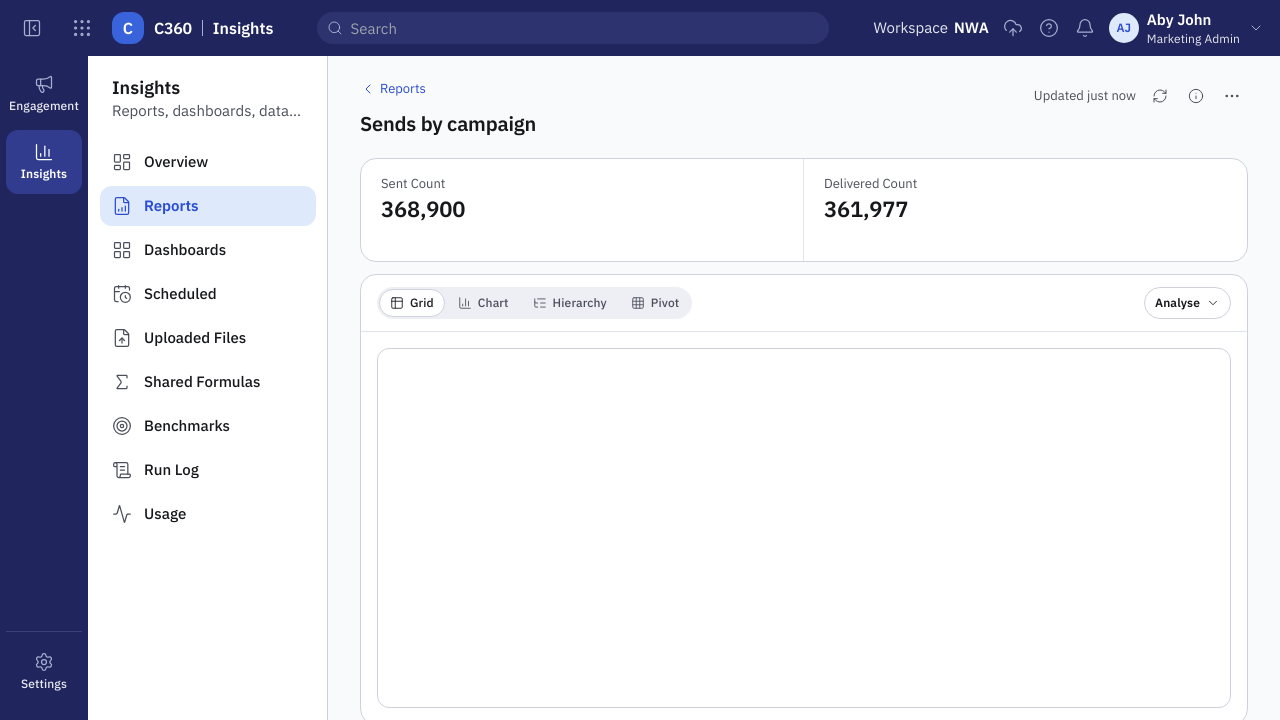
Scenario: Share: find a role, let it edit, and Save sends the list as a whole
Expected: the heading "Sends by campaign" is shown, [360,110,536,138]
Click the button named "More actions" at [1232, 96], box [1216,80,1248,112]
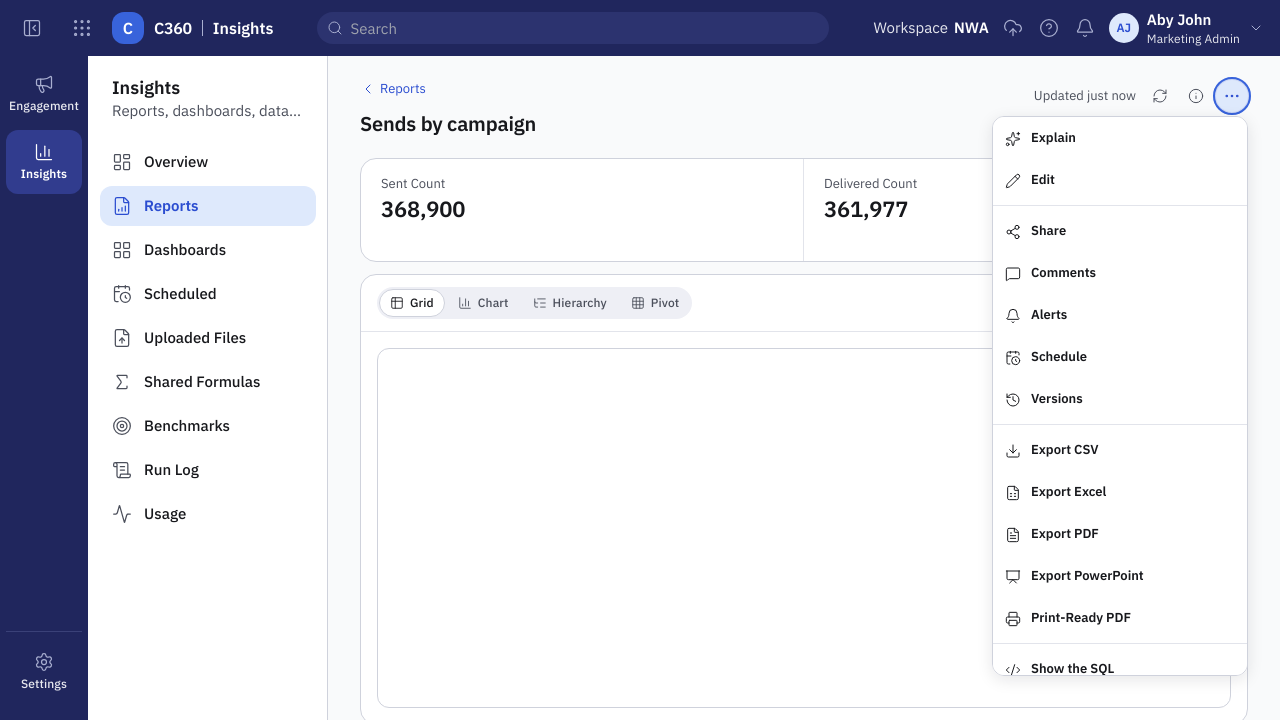
Click the menu item "Share" at [1120, 231], box [993,210,1247,252]
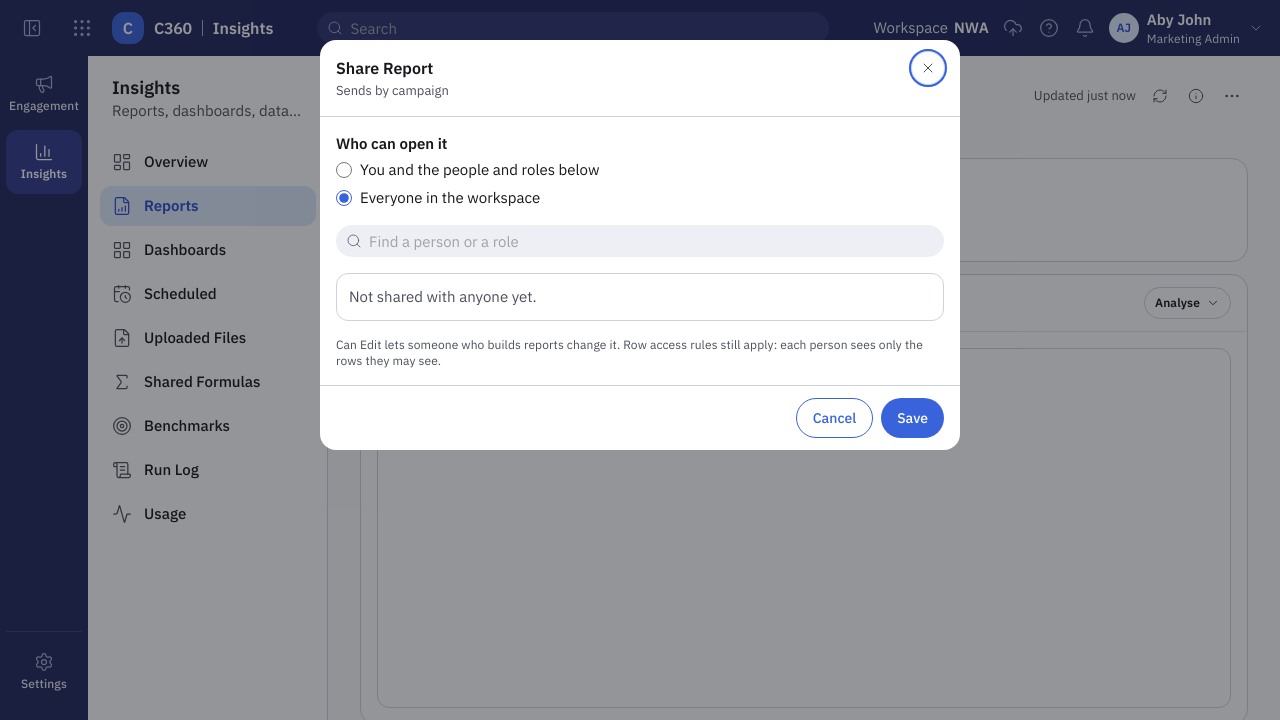
Result: the list item "Not shared with anyone yet." is shown at [349,287,537,306]
Type "Store" into the search field labelled "Find a person or a role" at [640, 241], box [336,225,944,257]
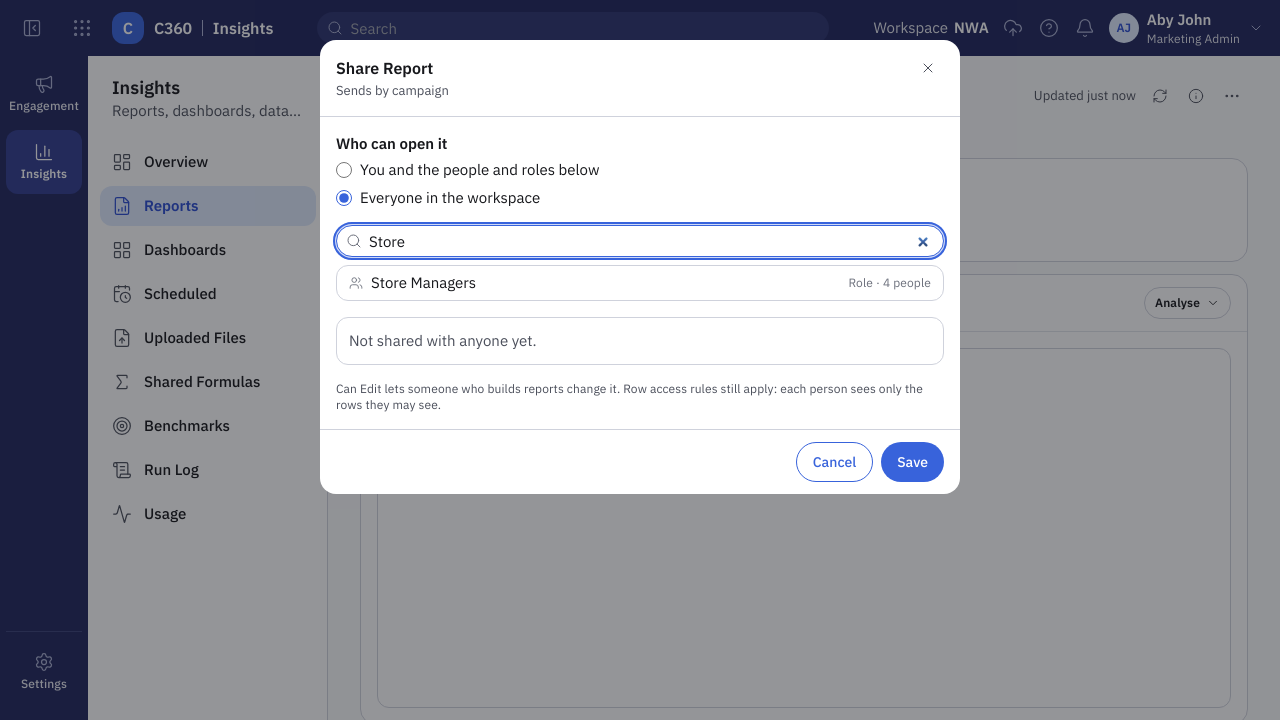
Click the button "Store Managers Role · 4 people" at [424, 282], box [337,266,943,300]
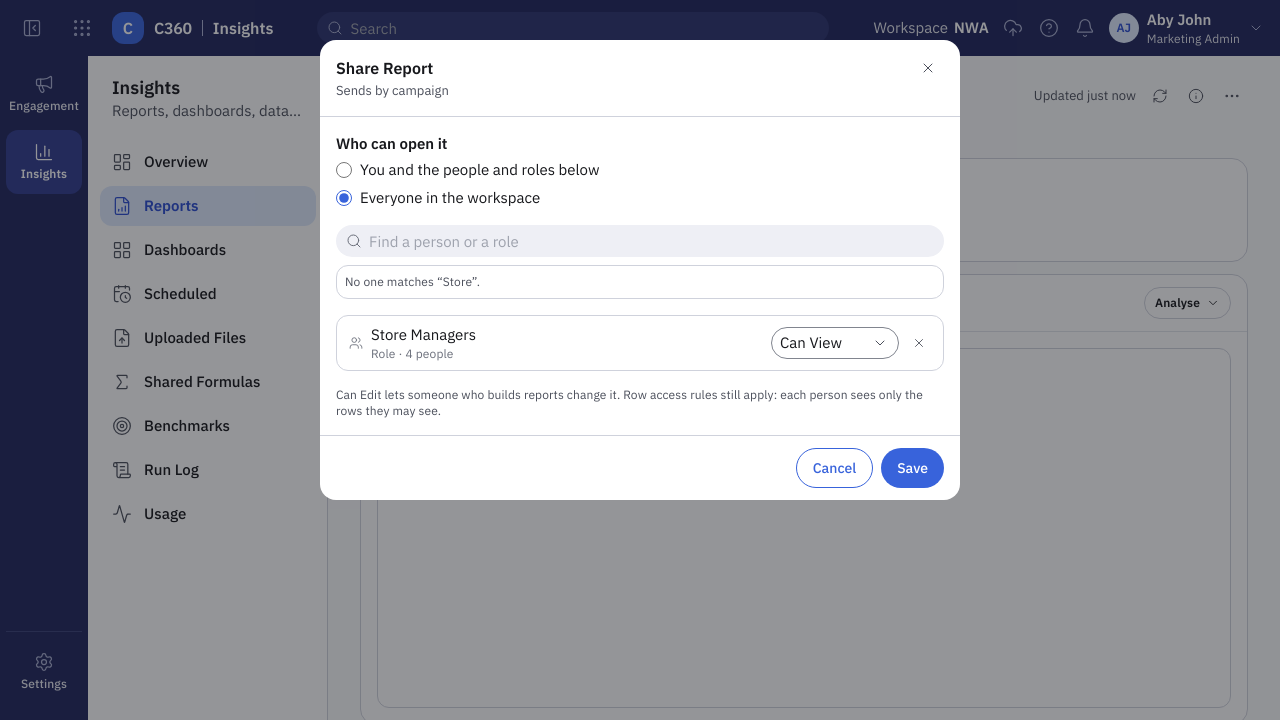
Select "Can Edit" in the dropdown named "Store Managers can" at [835, 343], box [771,327,899,359]
Click the radio button labelled "You and the people and roles below" at [344, 170], box [336,162,352,178]
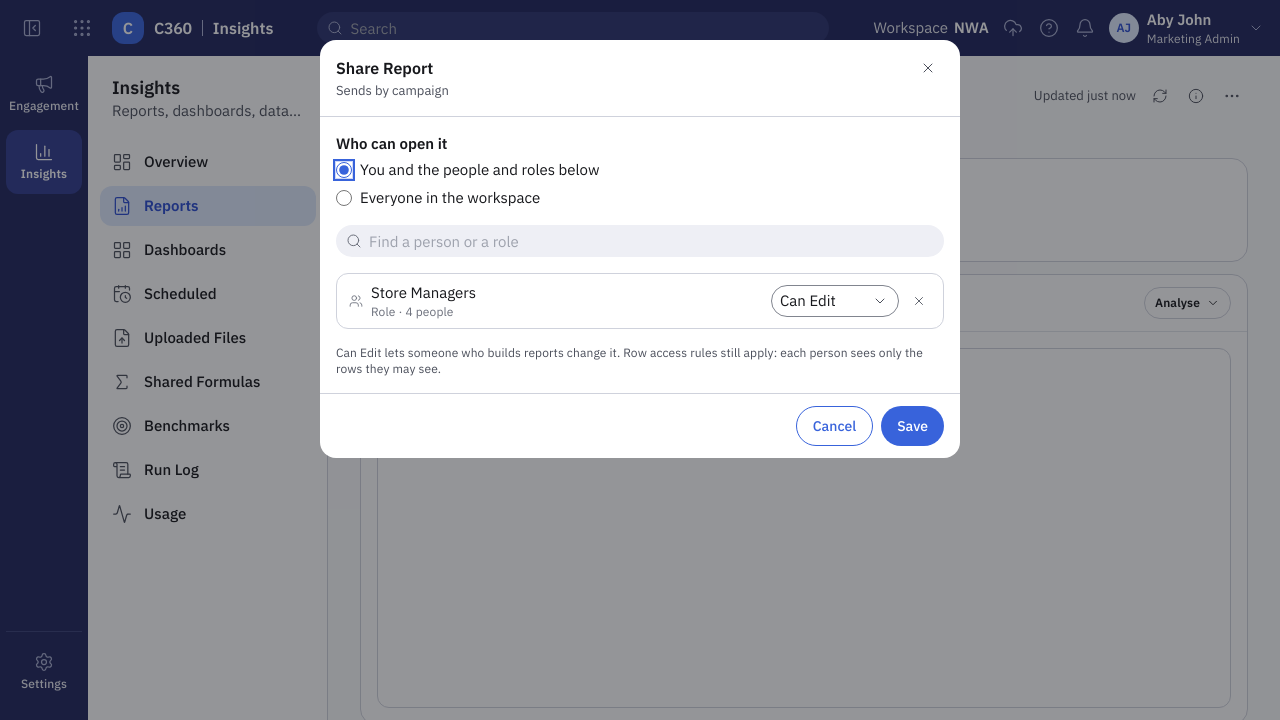
Click the button "Save" at [913, 426], box [881,406,944,446]
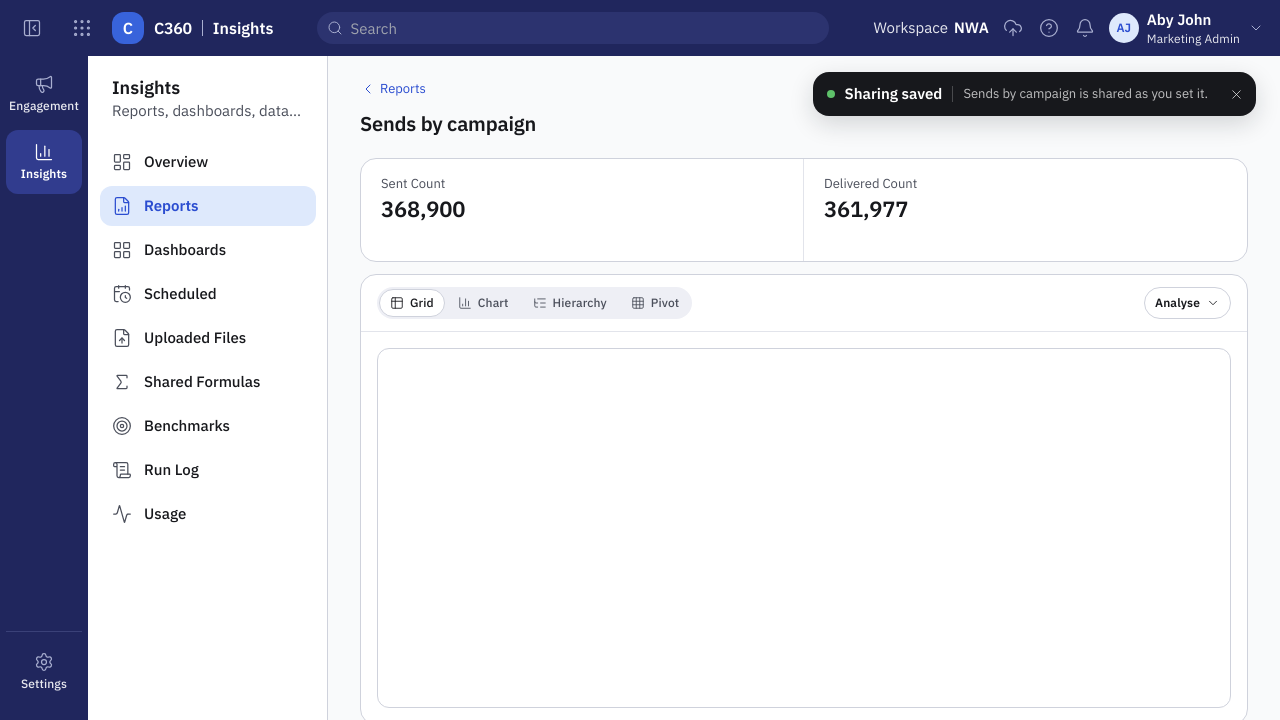
Result: the heading "Share Report" is gone
